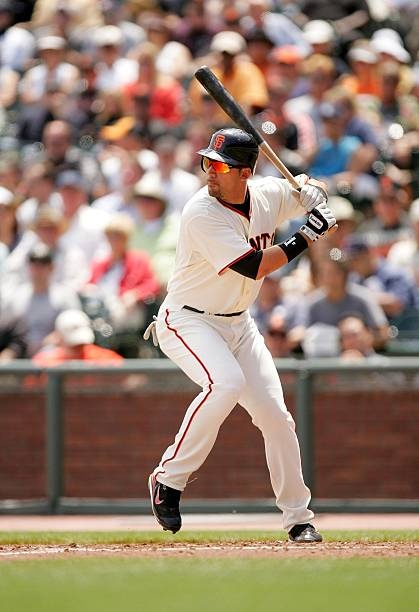bita: (198, 67, 317, 206)
